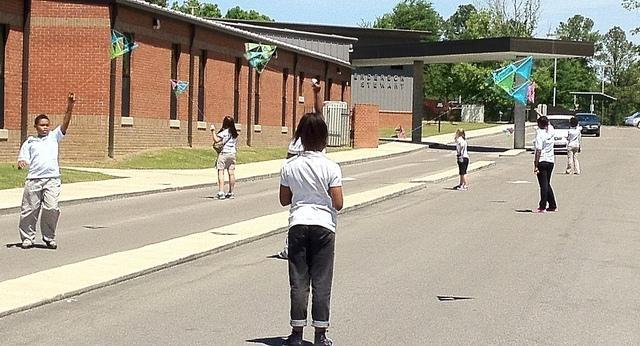car: (547, 115, 584, 152), (576, 112, 602, 136), (624, 112, 640, 130)
